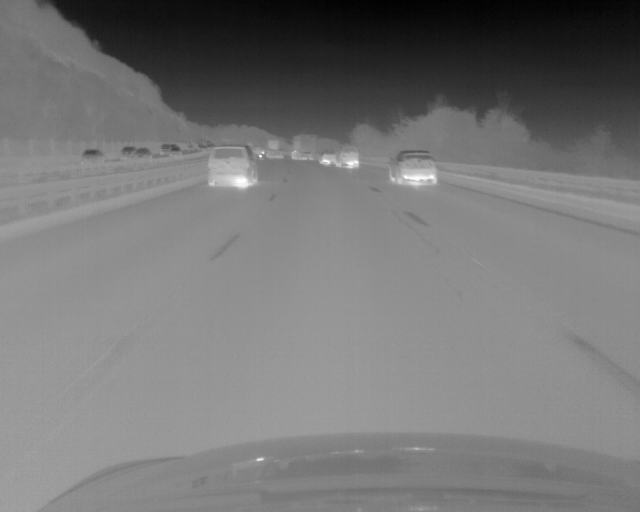car: (208, 145, 258, 185), (388, 150, 438, 184), (291, 134, 315, 161), (336, 146, 359, 167), (266, 140, 283, 159), (161, 143, 181, 156), (319, 151, 335, 165), (82, 149, 102, 160), (133, 147, 148, 158), (121, 145, 135, 155)
